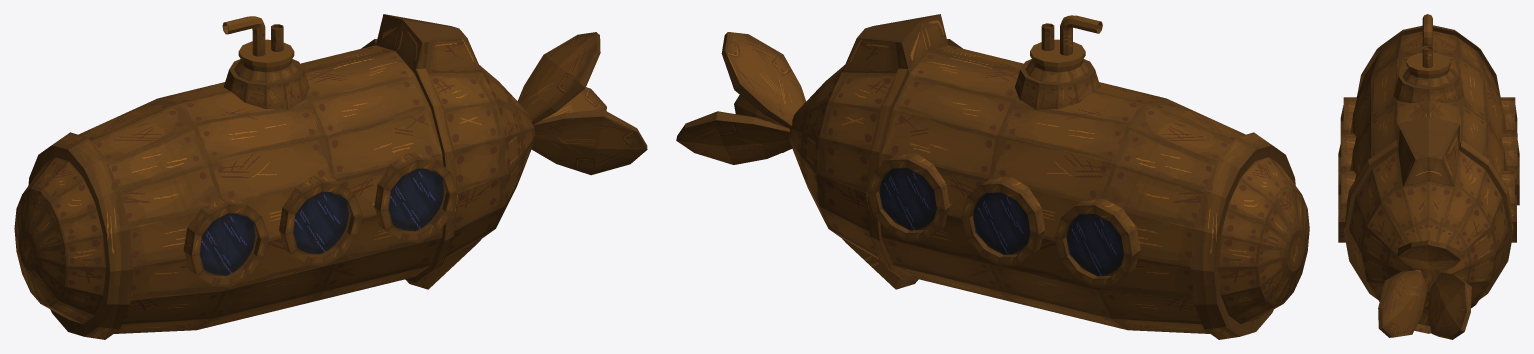
File: Submarino.fbx
The picture shows the model from 3 angles, left to right: view 1: azimuth 30°, elevation 25°; view 2: azimuth 150°, elevation 25°; view 3: azimuth 270°, elevation 25°; orthographic projection. The views are drawn at different scales.
Parts seen in each view (by area): view 1: Submarino; view 2: Submarino; view 3: Submarino.
Boxes of the visible parts, x1,y1,x2,y2 form: Submarino: [14, 14, 647, 339]; Submarino: [676, 14, 1309, 339]; Submarino: [1338, 14, 1519, 339].
Bounding box in the file's own units: 1206 × 590 × 393.
